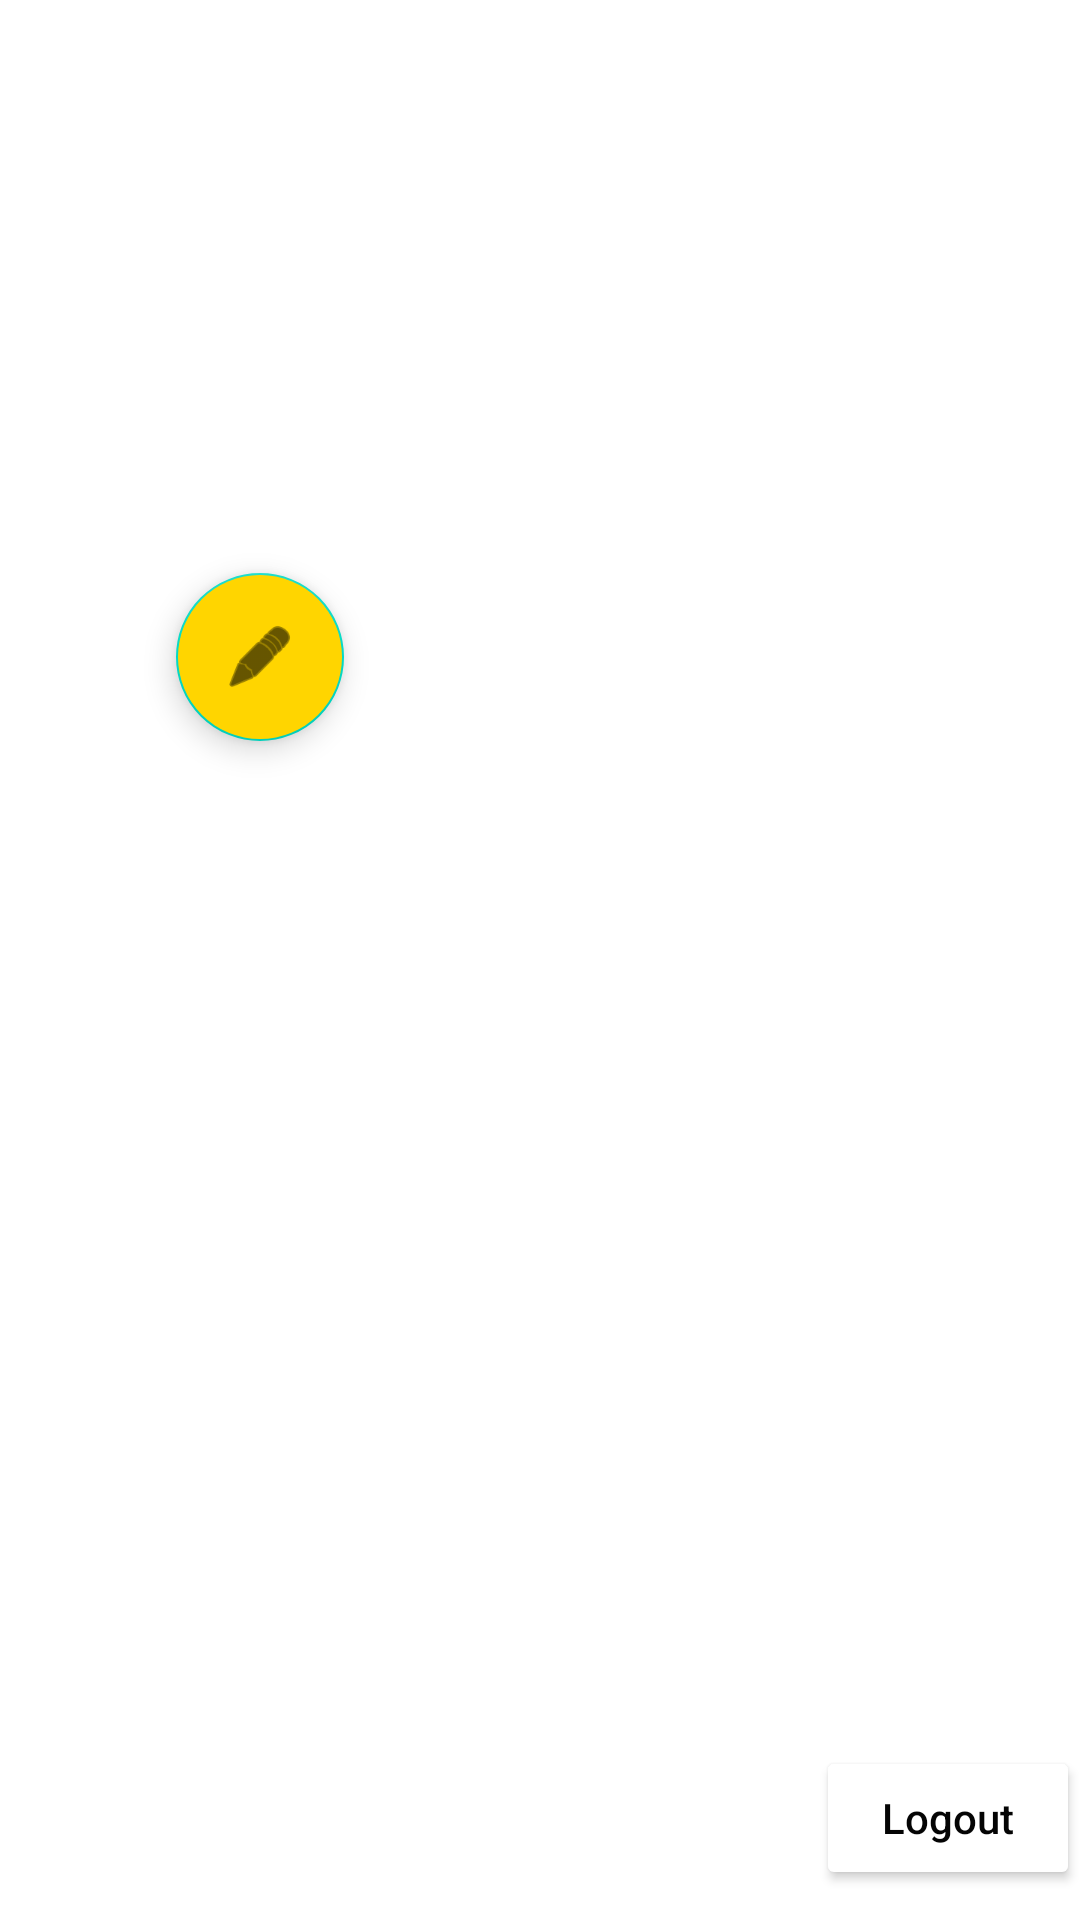

Named icons in this screenshot (1080px x 1920px) and their centers, point (x, y):
edit: point (260, 657)
